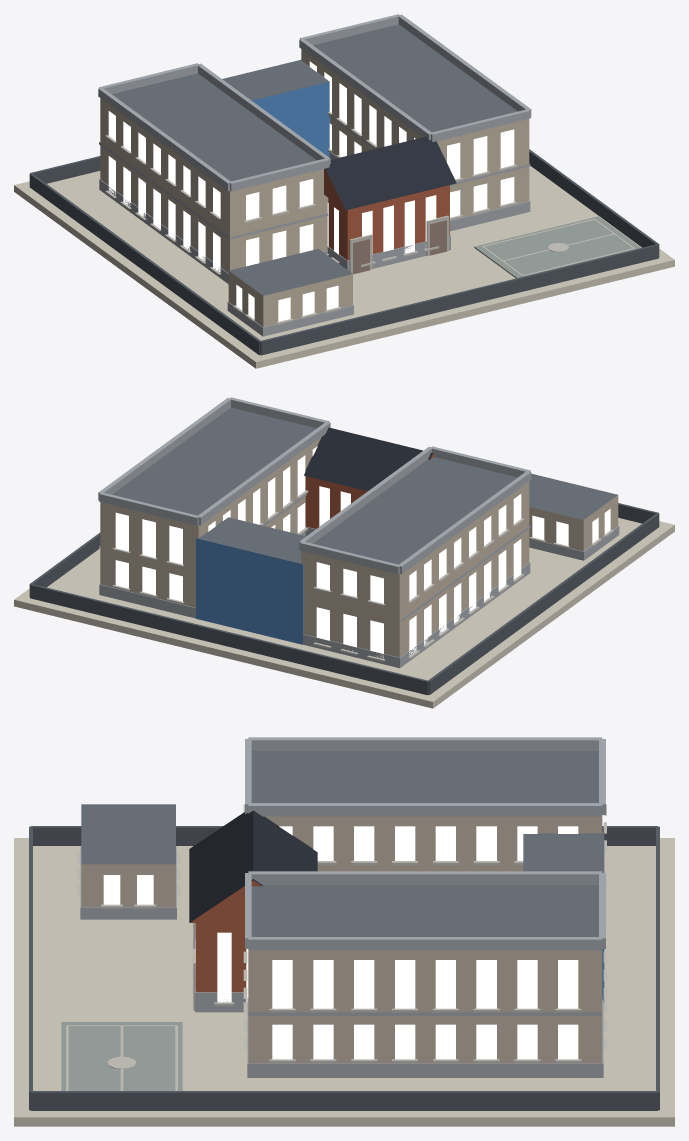
The picture shows the model from 3 angles, top to bottom: view 1: azimuth 30°, elevation 25°; view 2: azimuth 150°, elevation 25°; view 3: azimuth 270°, elevation 25°; orthographic projection. The views are drawn at different scales.
Parts seen in each view (by area): view 1: b29_x2; view 2: b29_x2; view 3: b29_x2.
Boxes of the visible parts, left/top/right/bottom form: b29_x2: left=14, top=14, right=674, bottom=368; b29_x2: left=14, top=397, right=674, bottom=708; b29_x2: left=14, top=737, right=674, bottom=1126.
Size of the model in its own units: 1.96 by 0.485 by 1.96.
